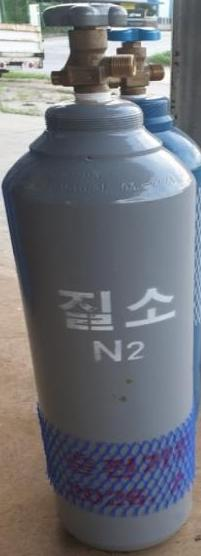cylinder: (0, 1, 201, 556)
